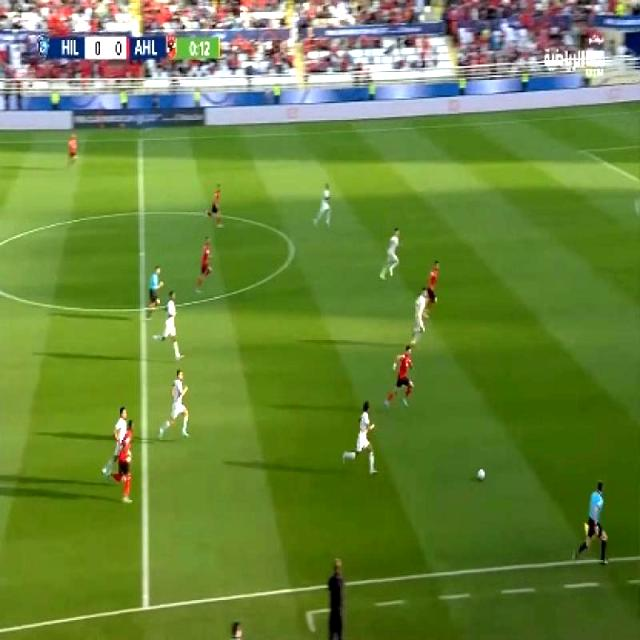bigarea_top_inner: (574, 140, 592, 160)
halfcircle_bottom: (132, 292, 152, 323)
halfcircle_top: (131, 200, 151, 225)
midline_bottom_intersection: (132, 586, 158, 619)
midline_top_intersection: (132, 128, 148, 149)
